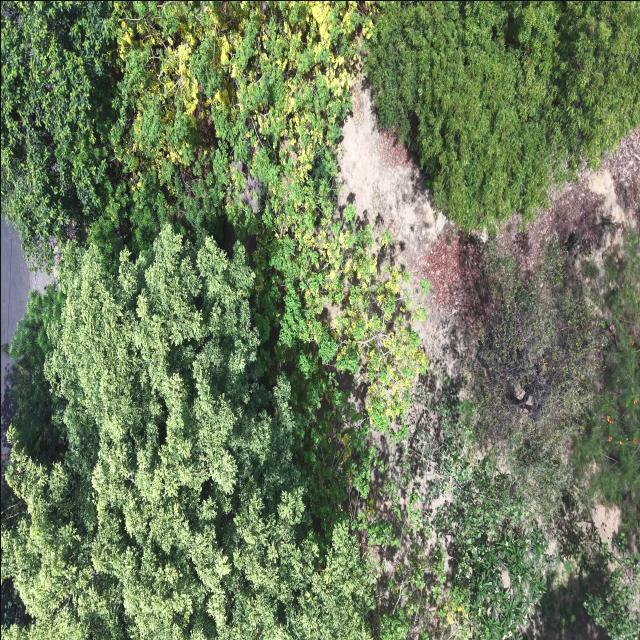DRY_AREA: (338, 87, 639, 375), (338, 87, 485, 357), (338, 89, 467, 377), (338, 89, 446, 294), (497, 129, 639, 270), (338, 90, 445, 270), (1, 219, 53, 344), (1, 220, 31, 344)
PATHWAYS: (1, 220, 51, 344)
VEGETATION_TREE: (1, 1, 639, 639), (1, 3, 424, 638), (2, 227, 546, 639), (1, 1, 423, 424), (1, 1, 639, 259), (1, 227, 373, 639), (1, 1, 370, 342), (358, 232, 639, 639), (1, 1, 370, 260), (470, 231, 639, 639), (365, 1, 639, 229), (367, 380, 547, 639), (365, 1, 558, 229), (473, 242, 601, 519), (1, 3, 116, 264), (576, 228, 639, 639), (431, 457, 545, 639), (580, 229, 639, 530), (527, 488, 639, 639), (6, 287, 66, 462), (580, 534, 639, 639)
